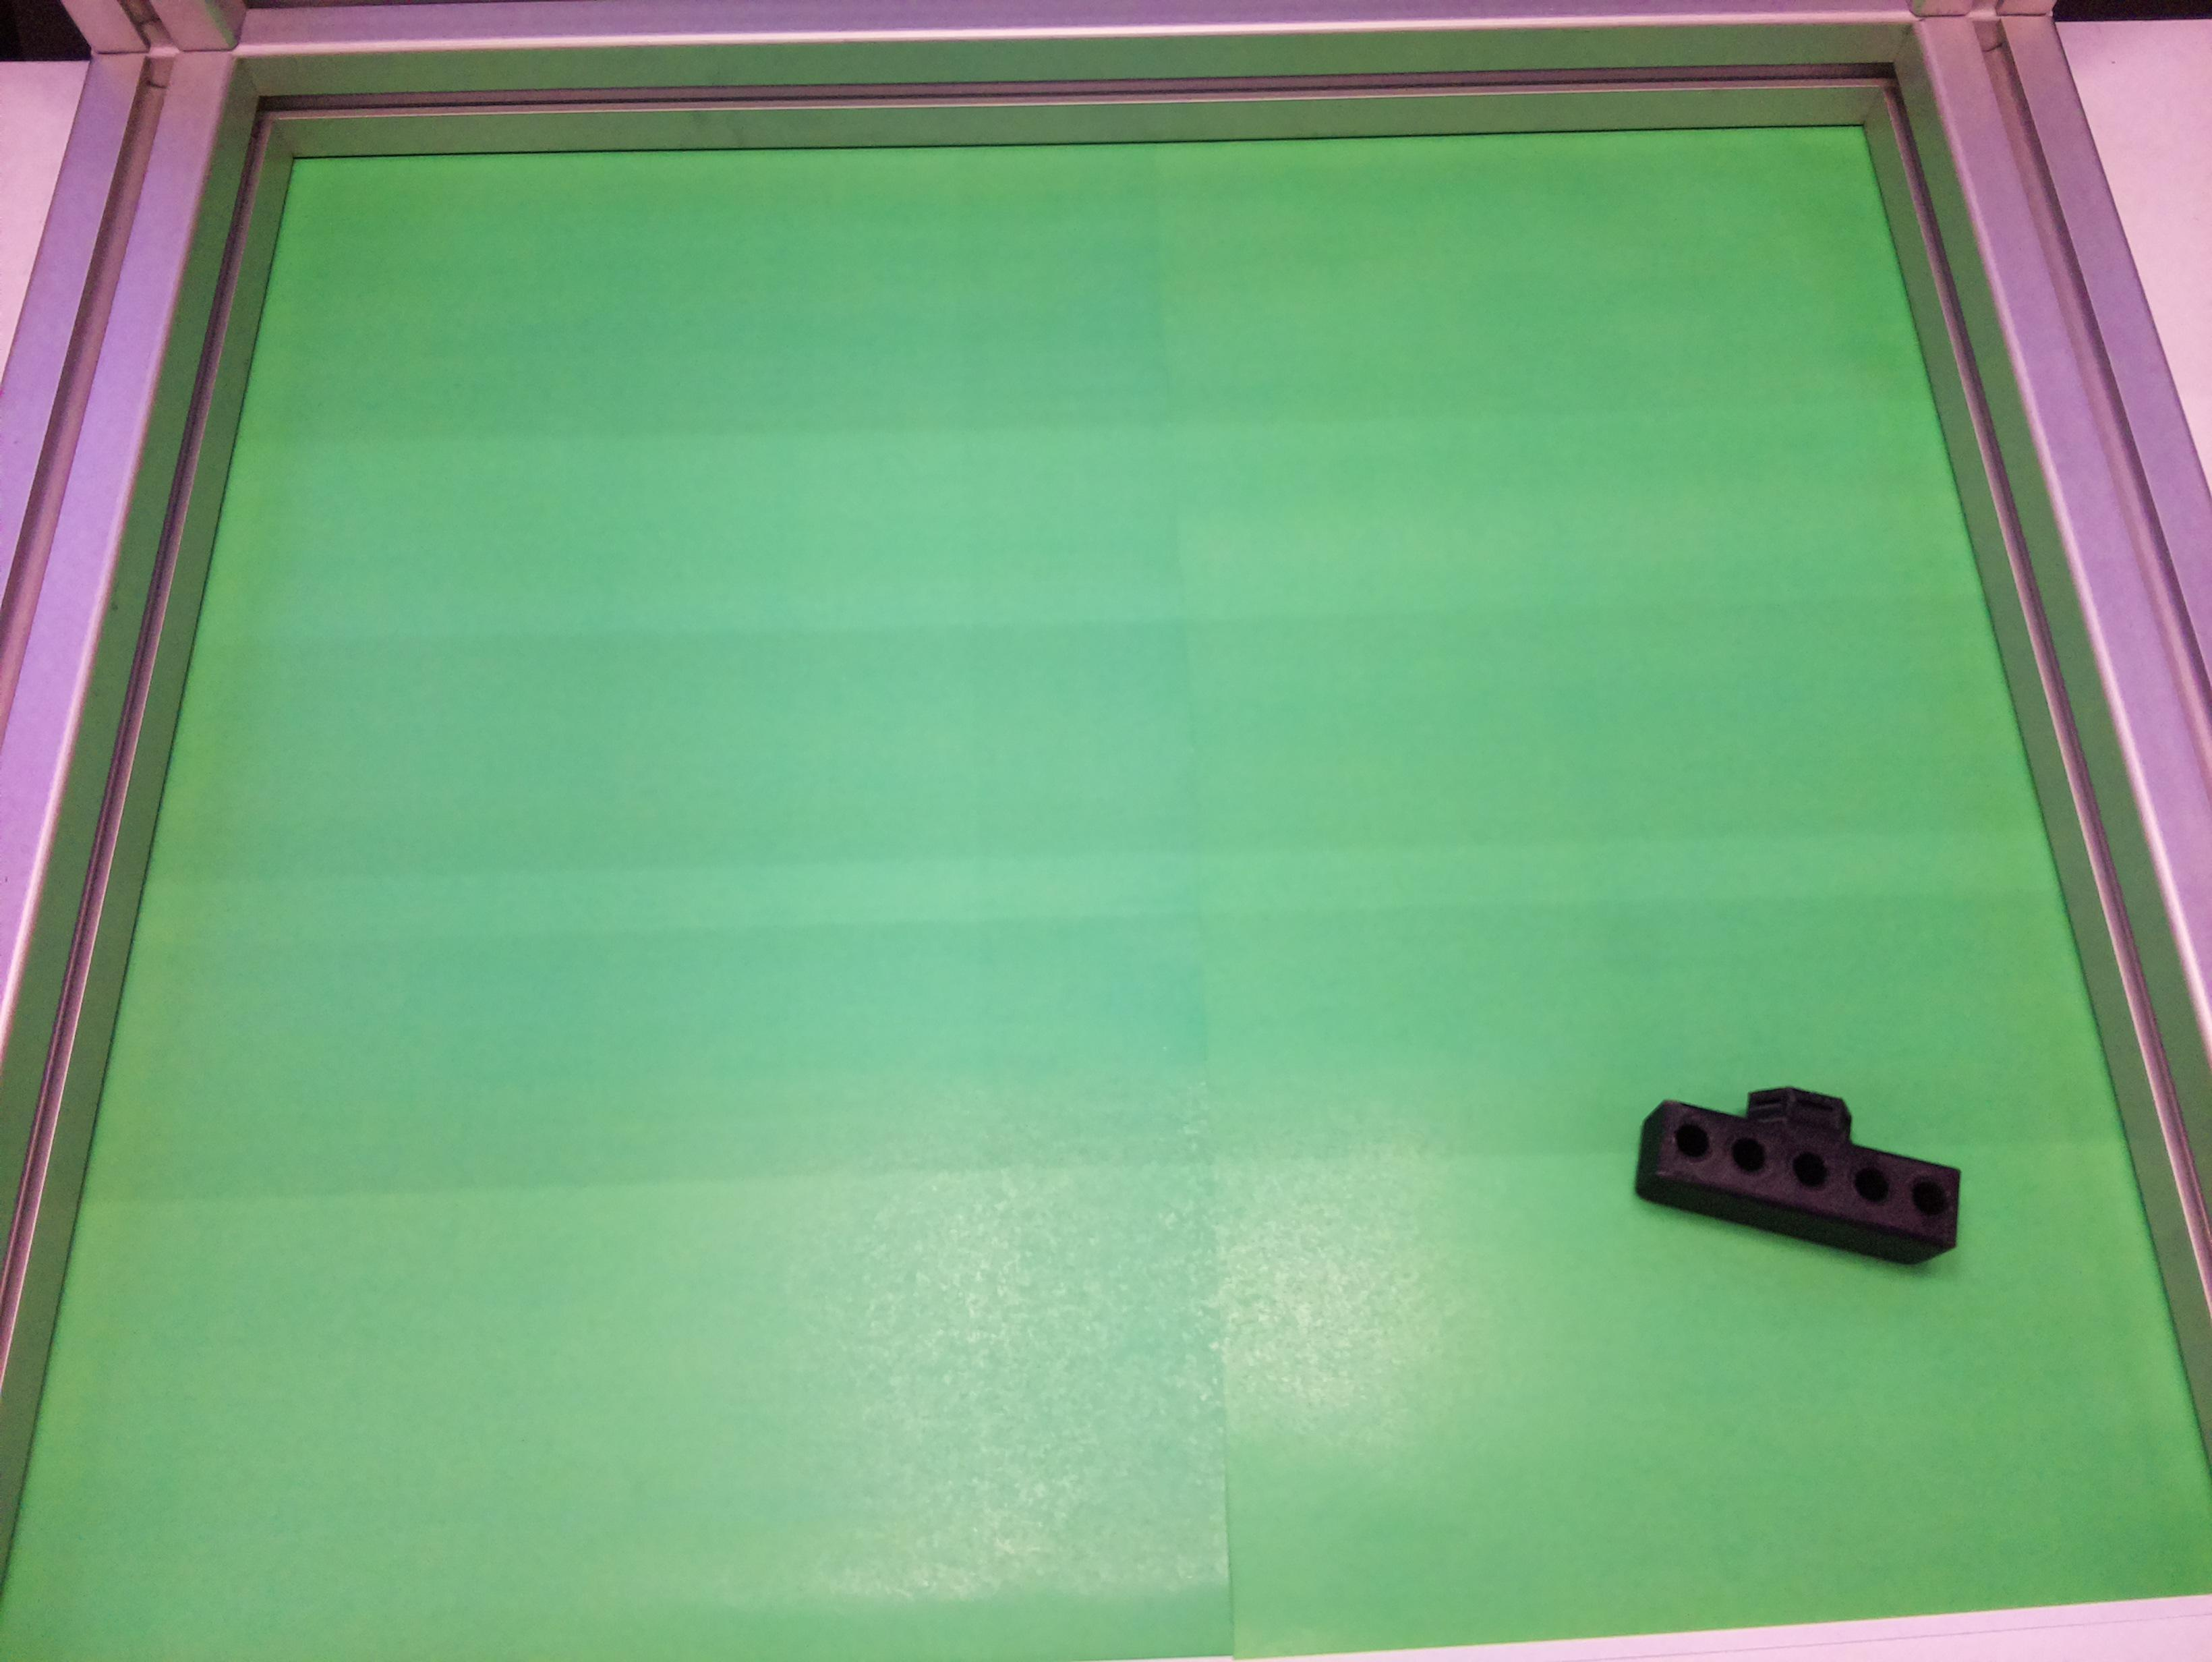bit_holder: (1625, 1051, 1983, 1281)
